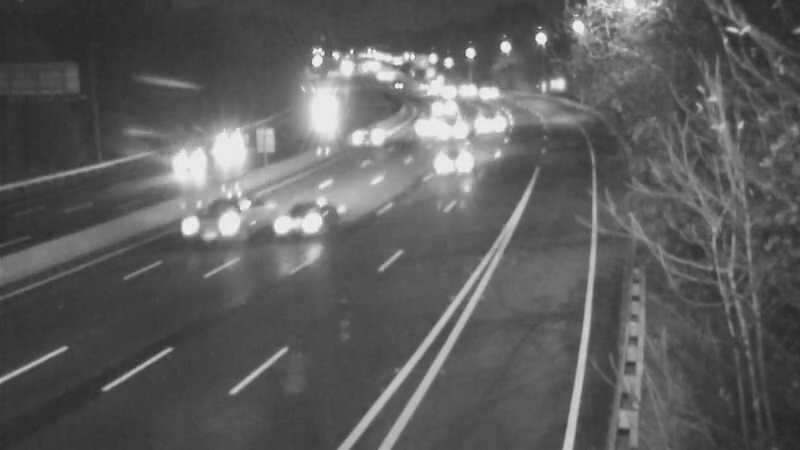vehicle: (417, 114, 497, 194), (248, 175, 328, 255), (158, 187, 238, 267), (151, 126, 231, 206), (192, 110, 272, 190), (417, 79, 467, 129), (465, 96, 515, 146), (399, 103, 449, 153), (425, 102, 475, 152), (343, 111, 393, 161), (292, 82, 342, 132)
